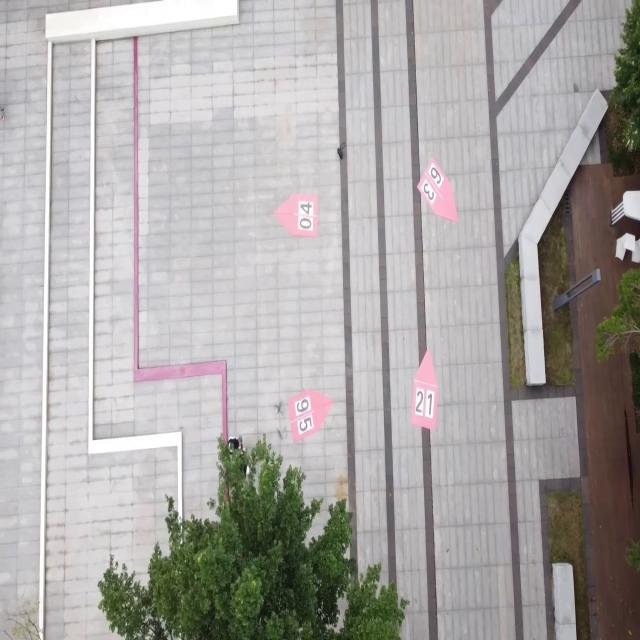-sign-: (417, 156, 459, 224), (286, 388, 332, 444), (412, 347, 439, 431), (275, 192, 319, 238)
